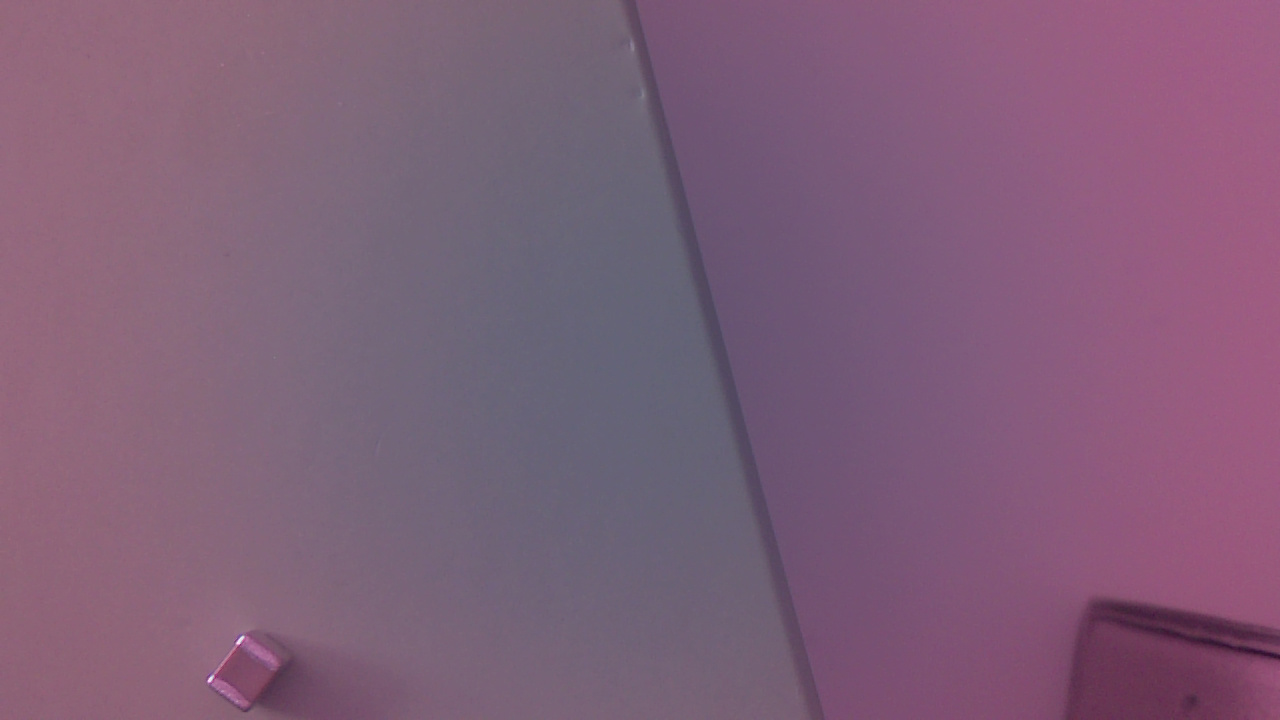Condensator: (207, 627, 308, 719)
